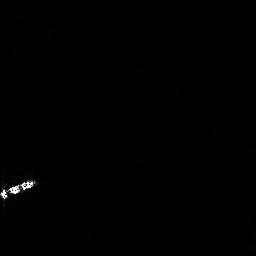ship: (1, 179, 35, 200)
